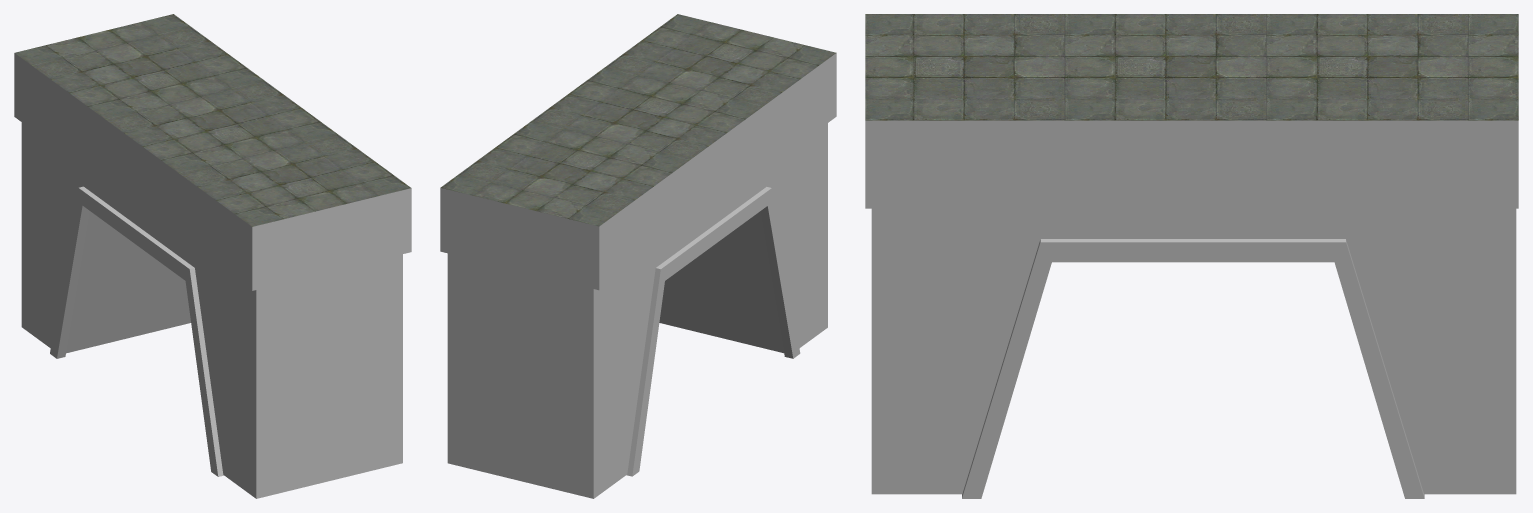
File: environment_Building_shitai_008_d.FBX
The picture shows the model from 3 angles, left to right: view 1: azimuth 30°, elevation 25°; view 2: azimuth 150°, elevation 25°; view 3: azimuth 270°, elevation 25°; orthographic projection. The views are drawn at different scales.
Visible parts, largest first — view 1: environment_Building_shitai_008_d03, environment_Building_shitai_008_d01, environment_Building_shitai_008_d02; view 2: environment_Building_shitai_008_d03, environment_Building_shitai_008_d01, environment_Building_shitai_008_d02; view 3: environment_Building_shitai_008_d03, environment_Building_shitai_008_d02, environment_Building_shitai_008_d01.
Boxes of the visible parts, x1,y1,x2,y2 form: environment_Building_shitai_008_d03: [21, 122, 402, 498]; environment_Building_shitai_008_d01: [15, 14, 410, 226]; environment_Building_shitai_008_d02: [14, 53, 411, 476]; environment_Building_shitai_008_d03: [447, 123, 827, 498]; environment_Building_shitai_008_d01: [440, 14, 836, 226]; environment_Building_shitai_008_d02: [440, 53, 836, 476]; environment_Building_shitai_008_d03: [871, 208, 1516, 494]; environment_Building_shitai_008_d02: [865, 120, 1518, 498]; environment_Building_shitai_008_d01: [865, 14, 1518, 120].
Bounding box in the file's own units: 516 × 854 × 1334.
